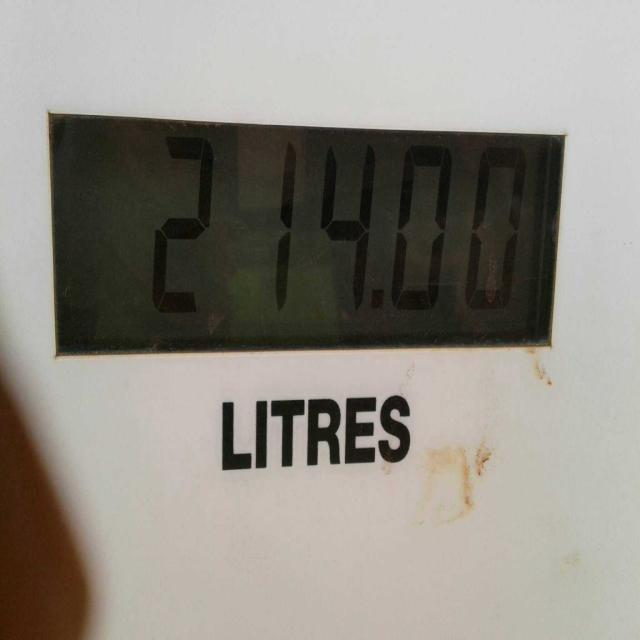.: (364, 281, 390, 328)
0: (464, 138, 532, 320), (392, 136, 457, 322)
1: (260, 129, 306, 318)
2: (135, 121, 218, 314)
4: (313, 132, 376, 318)
